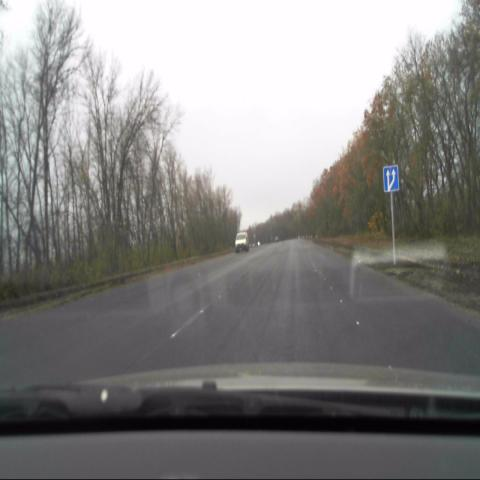5_15_3: (383, 163, 399, 192)
